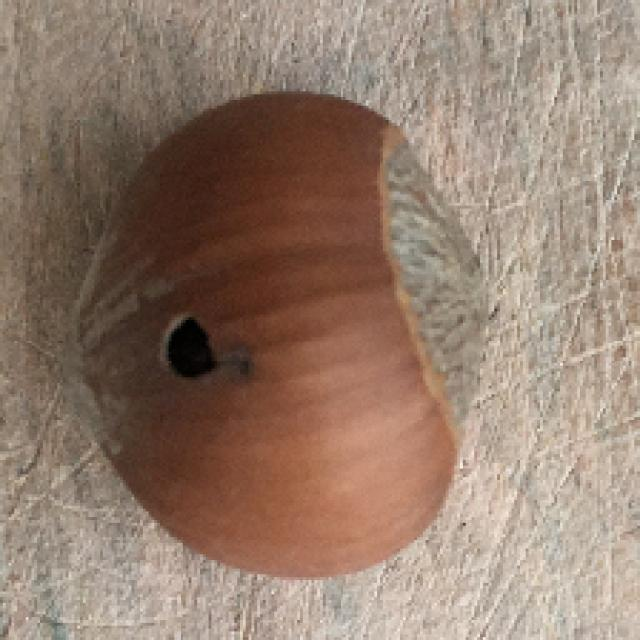damagedHazelnut: (71, 80, 502, 585)
